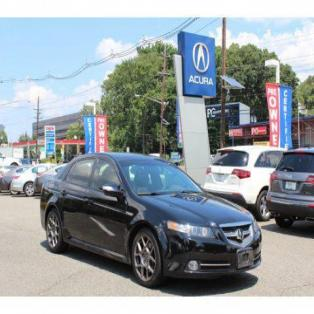Auto: (40, 153, 261, 287)
